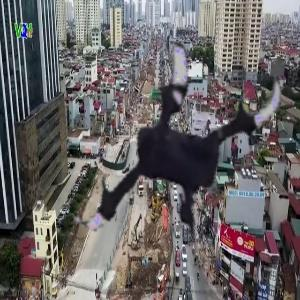drone: (47, 10, 299, 262)
